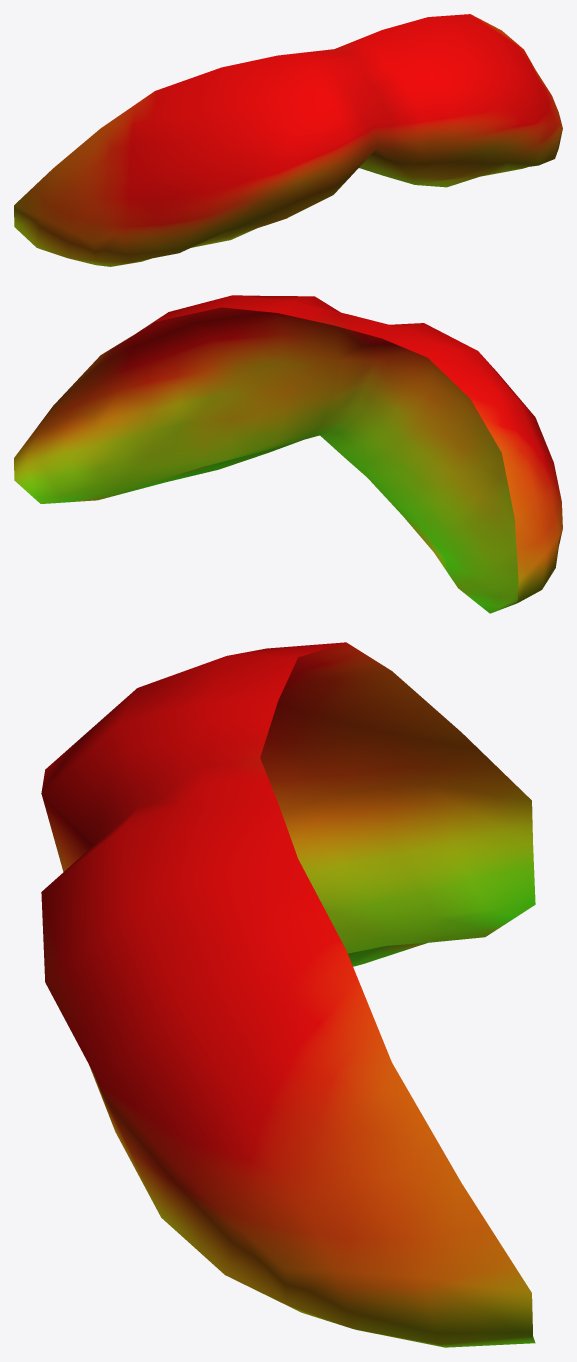
File: LowerFace_SmallStash.obj
The picture shows the model from 3 angles, top to bottom: view 1: azimuth 30°, elevation 25°; view 2: azimuth 150°, elevation 25°; view 3: azimuth 270°, elevation 25°; orthographic projection. The views are drawn at different scales.
Visible parts, largest first — view 1: LowerFace_SmallStash_0; view 2: LowerFace_SmallStash_0; view 3: LowerFace_SmallStash_0.
Boxes of the visible parts, bbox=[...] form: LowerFace_SmallStash_0: bbox=[14, 14, 562, 266]; LowerFace_SmallStash_0: bbox=[14, 295, 562, 613]; LowerFace_SmallStash_0: bbox=[41, 642, 535, 1347].
Bounding box in the file's own units: 0.0649 × 0.0233 × 0.0275.
Materials: 1 (1 with a texture image).
